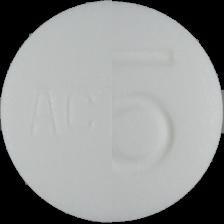66116-504: (0, 0, 224, 224)
